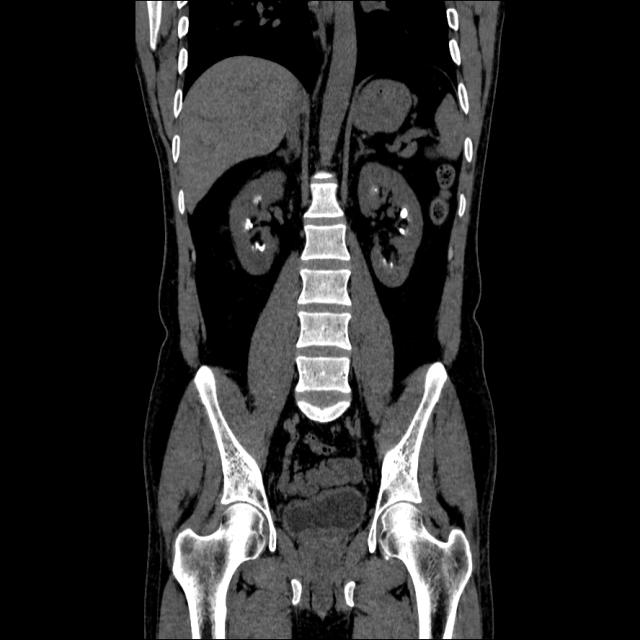kidneystone: (244, 218, 254, 231), (400, 207, 409, 218)
